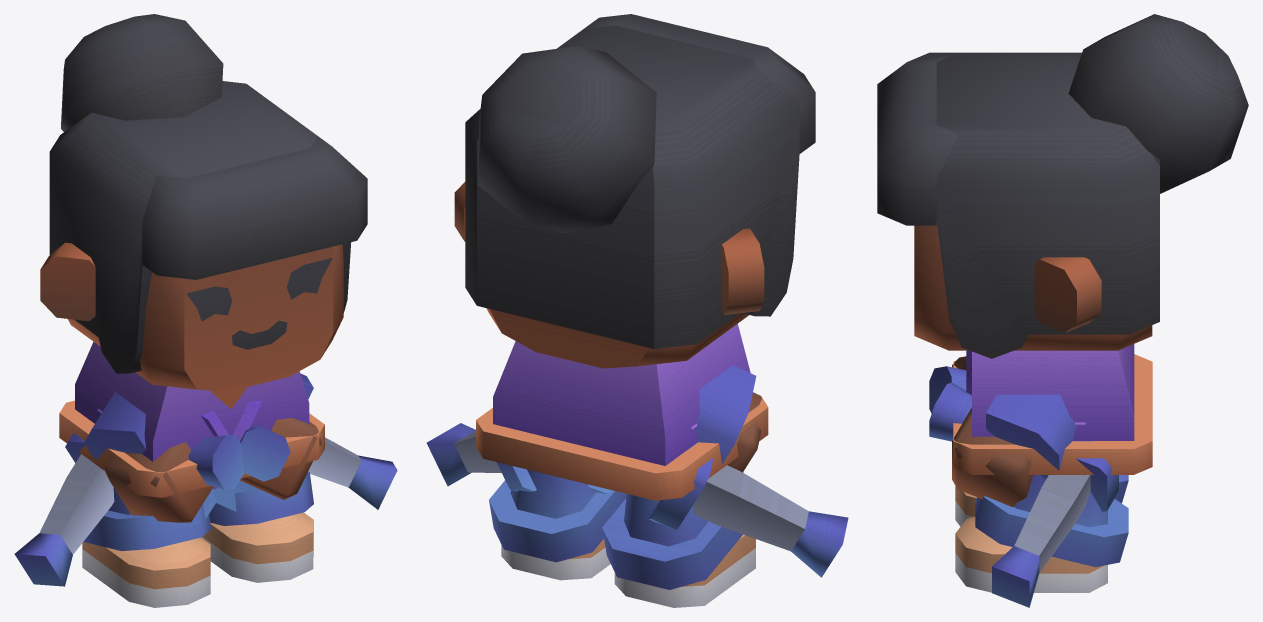
Rendered from character-female-a-cheer.glb.
The picture shows the model from 3 angles, left to right: view 1: azimuth 30°, elevation 25°; view 2: azimuth 150°, elevation 25°; view 3: azimuth 270°, elevation 25°; orthographic projection. The views are drawn at different scales.
Parts seen in each view (by area): view 1: character-female-a-cheer; view 2: character-female-a-cheer; view 3: character-female-a-cheer.
Part boxes in pixels (box(x1,y1,x2,y2)): character-female-a-cheer: box(14, 14, 397, 607); character-female-a-cheer: box(426, 14, 848, 607); character-female-a-cheer: box(877, 14, 1248, 607).
Size of the model in its own units: 0.61 by 0.7755 by 0.4995.
Materials: 1 (1 with a texture image).
